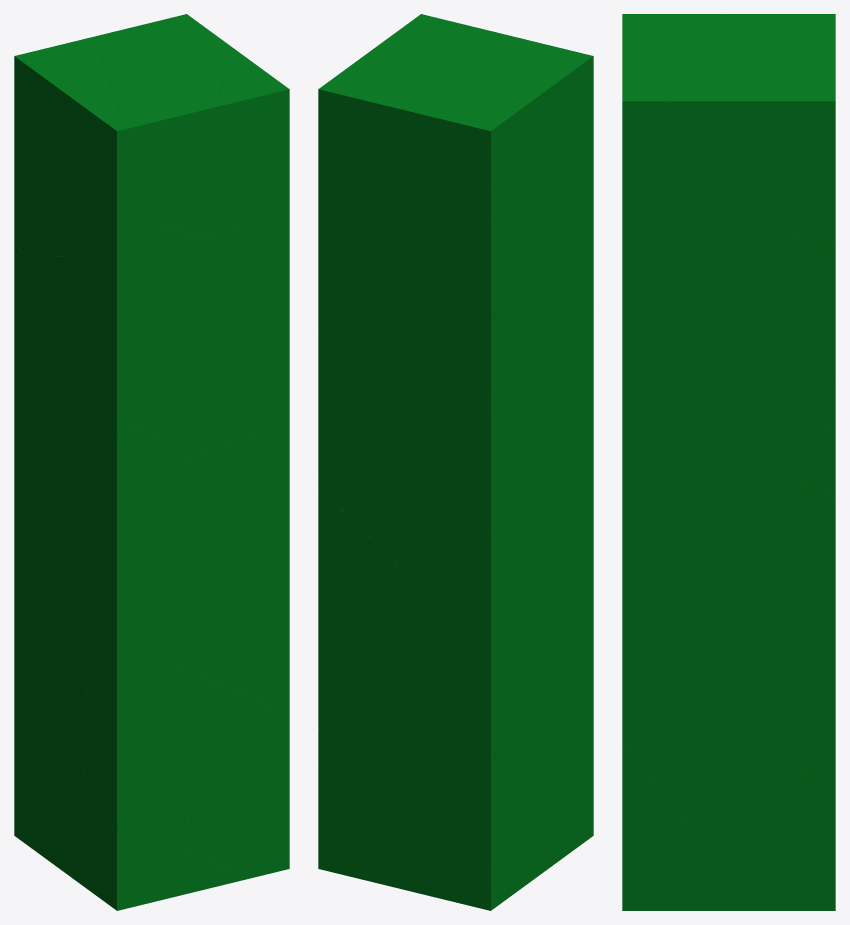
Rendered from building.gltf.
The picture shows the model from 3 angles, left to right: view 1: azimuth 30°, elevation 25°; view 2: azimuth 150°, elevation 25°; view 3: azimuth 270°, elevation 25°; orthographic projection. The views are drawn at different scales.
Parts seen in each view (by area): view 1: Cube_cell.002_cell.007, Cube_cell.003_cell.003, Cube_cell.006_cell.003, Cube_cell.007_cell.010, Cube_cell.007_cell.011, Cube_cell.002_cell.001, Cube_cell.006_cell, Cube_cell.003_cell, Cube_cell.007_cell, Cube_cell.002_cell.008, Cube_cell.007_cell.001, Cube_cell.002_cell.006 (+18 smaller); view 2: Cube_cell.006_cell.003, Cube_cell.007_cell.011, Cube_cell.006_cell.013, Cube_cell.005_cell.008, Cube_cell.002_cell, Cube_cell.005_cell, Cube_cell.006_cell.002, Cube_cell.006_cell, Cube_cell.002_cell.012, Cube_cell.005_cell.011, Cube_cell.006_cell.014, Cube_cell.007_cell.006 (+28 smaller); view 3: Cube_cell.002_cell.006, Cube_cell.003_cell.003, Cube_cell.002_cell, Cube_cell.002_cell.011, Cube_cell.005_cell.008, Cube_cell.005_cell.013, Cube_cell.003_cell.004, Cube_cell.002_cell.012, Cube_cell.003_cell, Cube_cell.002_cell.001, Cube_cell.005_cell.006, Cube_cell.002_cell.008 (+13 smaller).
Boxes of the visible parts, box(x1,y1,x2,y2) form: Cube_cell.002_cell.007: box(138, 229, 285, 466); Cube_cell.003_cell.003: box(191, 465, 289, 711); Cube_cell.006_cell.003: box(14, 256, 108, 488); Cube_cell.007_cell.010: box(77, 492, 198, 685); Cube_cell.007_cell.011: box(14, 464, 86, 693); Cube_cell.002_cell.001: box(159, 73, 289, 236); Cube_cell.006_cell: box(62, 74, 143, 299); Cube_cell.003_cell: box(187, 709, 289, 878); Cube_cell.007_cell: box(63, 764, 185, 910); Cube_cell.002_cell.008: box(110, 71, 223, 237); Cube_cell.007_cell.001: box(14, 660, 192, 808); Cube_cell.002_cell.006: box(222, 188, 289, 402); Cube_cell.006_cell.003: box(446, 237, 585, 518); Cube_cell.007_cell.011: box(454, 496, 562, 752); Cube_cell.006_cell.013: box(385, 100, 549, 336); Cube_cell.005_cell.008: box(318, 491, 413, 727); Cube_cell.002_cell: box(318, 29, 460, 223); Cube_cell.005_cell: box(318, 705, 484, 838); Cube_cell.006_cell.002: box(377, 324, 486, 496); Cube_cell.006_cell: box(481, 54, 593, 244); Cube_cell.002_cell.012: box(318, 208, 398, 366); Cube_cell.005_cell.011: box(347, 806, 481, 904); Cube_cell.006_cell.014: box(444, 88, 547, 220); Cube_cell.007_cell.006: box(477, 756, 539, 907); Cube_cell.002_cell.006: box(622, 170, 779, 428); Cube_cell.003_cell.003: box(622, 487, 766, 744); Cube_cell.002_cell: box(666, 51, 835, 241); Cube_cell.002_cell.011: box(627, 360, 820, 490); Cube_cell.005_cell.008: box(750, 518, 835, 774); Cube_cell.005_cell.013: box(711, 771, 835, 910); Cube_cell.003_cell.004: box(626, 656, 744, 835); Cube_cell.002_cell.012: box(759, 238, 835, 363); Cube_cell.003_cell: box(622, 744, 695, 910); Cube_cell.002_cell.001: box(622, 64, 673, 203); Cube_cell.005_cell.006: box(720, 538, 785, 775); Cube_cell.002_cell.008: box(622, 18, 740, 80).
Size of what is drawn, in the model's own units: 6.86 by 29.64 by 7.08.
